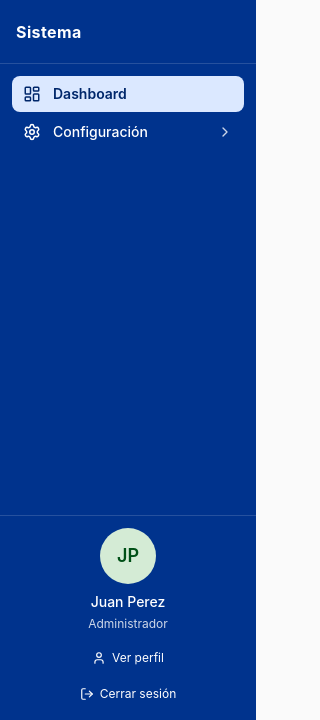
Test: Sidebar › collapses the group on second click
Click the button "Configuración" at [128, 132], box left=12, top=114, right=244, bottom=150
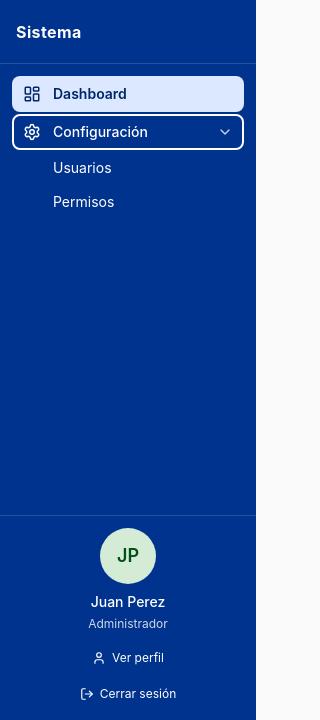
Click the button "Configuración" at [128, 132], box left=12, top=114, right=244, bottom=150
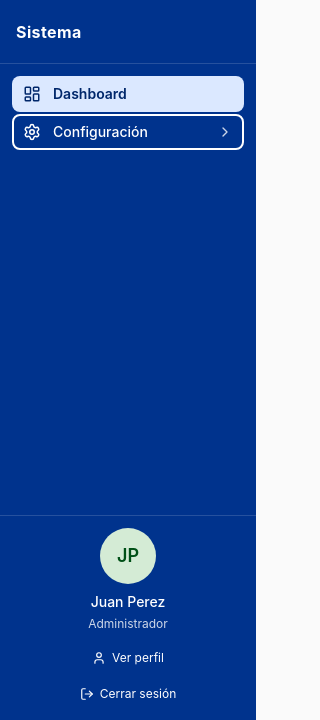
Expected: the link "Usuarios" is gone
